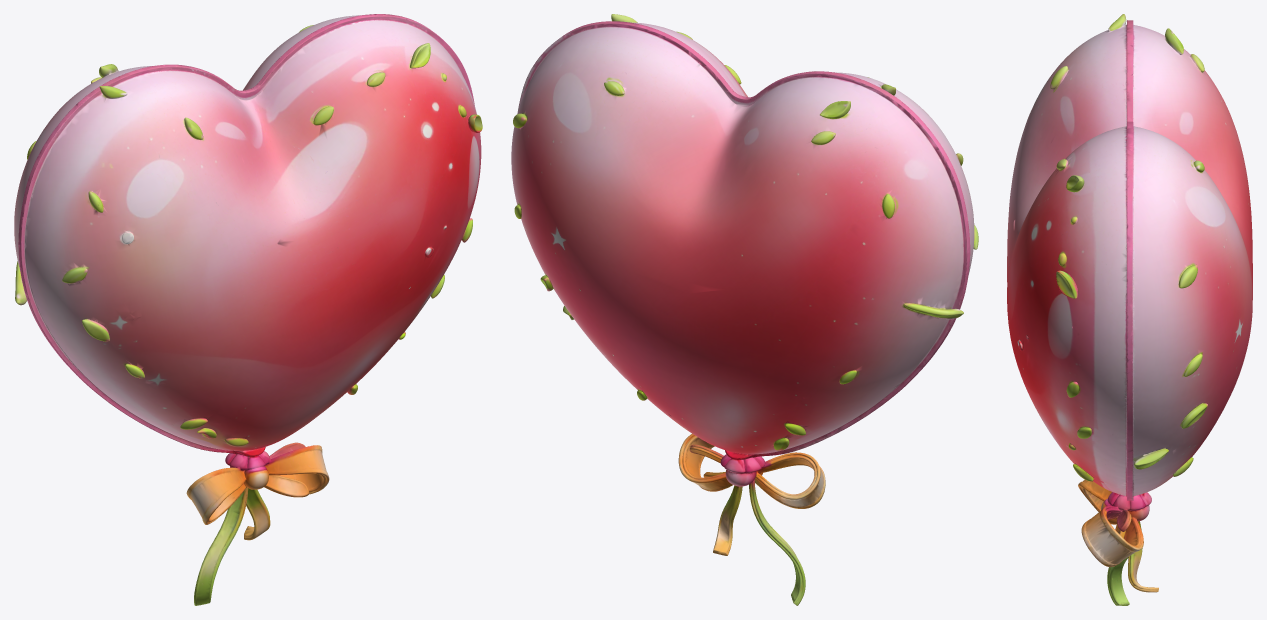
The model's file is 心形怪.glb.
3 renders of one model, left to right at view 1: azimuth 30°, elevation 25°; view 2: azimuth 150°, elevation 25°; view 3: azimuth 270°, elevation 25°, orthographic.
Visible parts, largest first — view 1: node_0; view 2: node_0; view 3: node_0.
Boxes of the visible parts, x1,y1,x2,y2 form: node_0: [14, 14, 482, 605]; node_0: [511, 14, 978, 605]; node_0: [1007, 14, 1252, 605].
Size of the model in its own units: 0.9152 by 1.05 by 0.427.
1 material, 1 textured.
